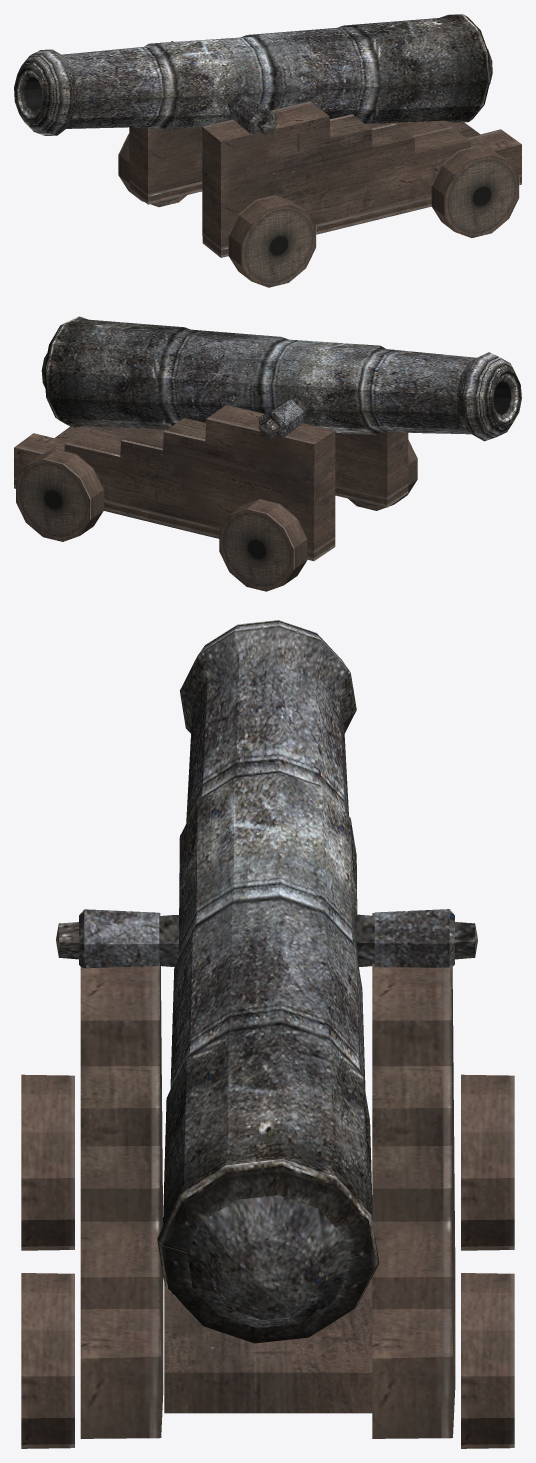
Rendered from Cannon_2.FBX.
3 views of the same model, one above another, from view 1: azimuth 30°, elevation 25°; view 2: azimuth 150°, elevation 25°; view 3: azimuth 270°, elevation 25° (orthographic). The views are drawn at different scales.
Parts seen in each view (by area): view 1: Cannon, Barrel; view 2: Cannon, Barrel; view 3: Cannon, Barrel.
Part boxes in pixels (bbox=[...]): Cannon: bbox=[118, 41, 521, 287]; Barrel: bbox=[14, 14, 492, 135]; Cannon: bbox=[14, 344, 417, 591]; Barrel: bbox=[41, 316, 521, 441]; Cannon: bbox=[21, 909, 514, 1448]; Barrel: bbox=[157, 620, 379, 1343].
Size of the model in its own units: 24.75 by 11.67 by 11.46.
